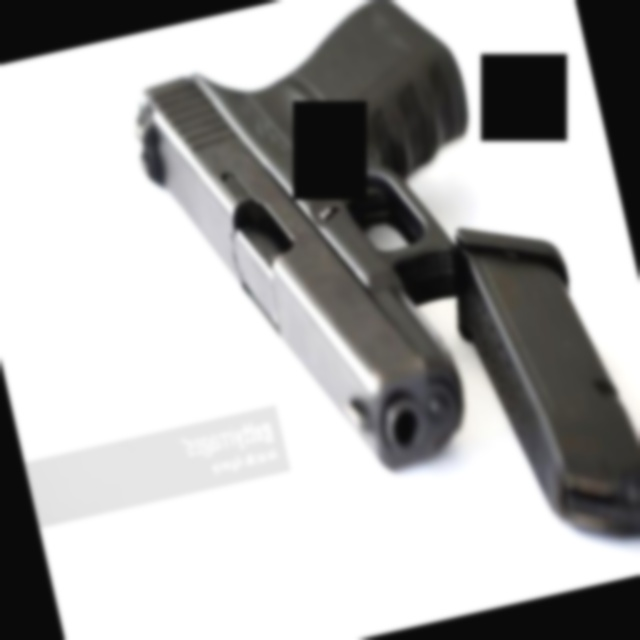gun: (113, 0, 556, 507)
